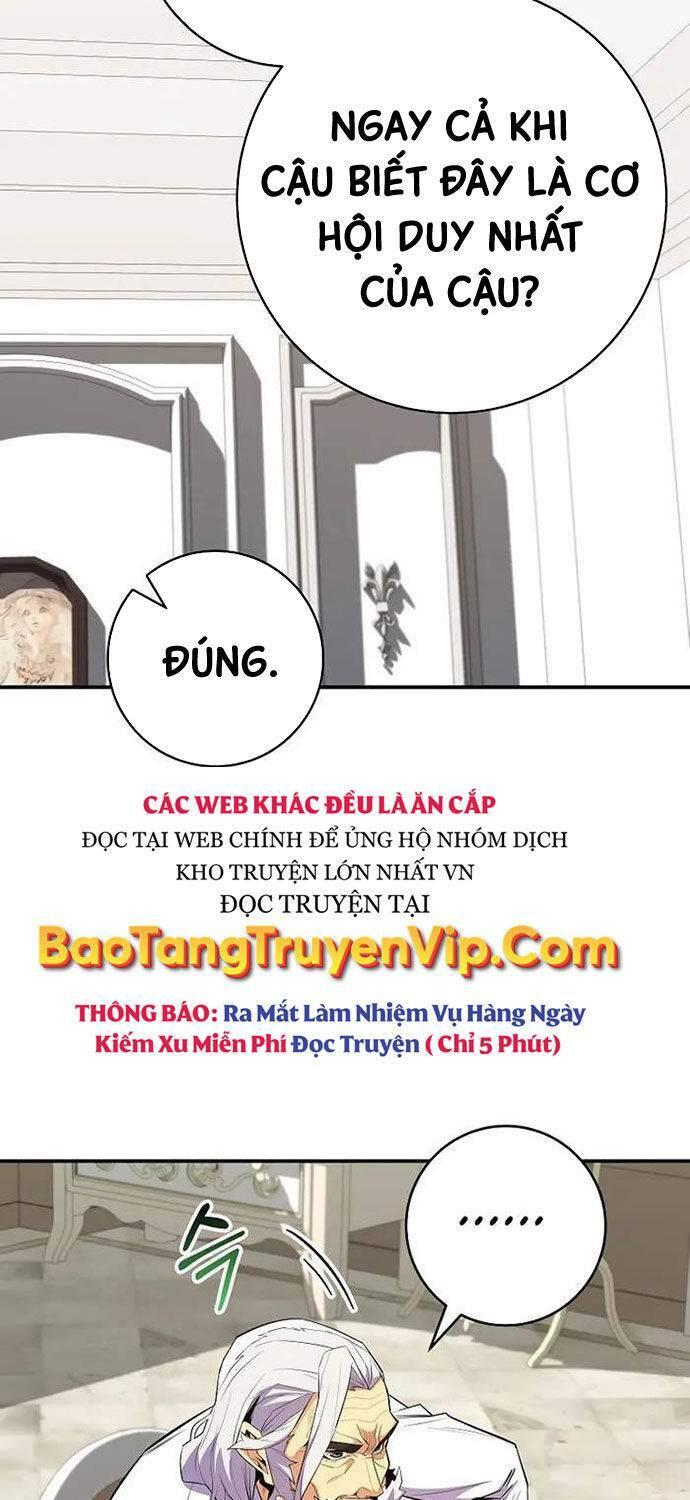quangcao: (32, 782, 630, 1066)
